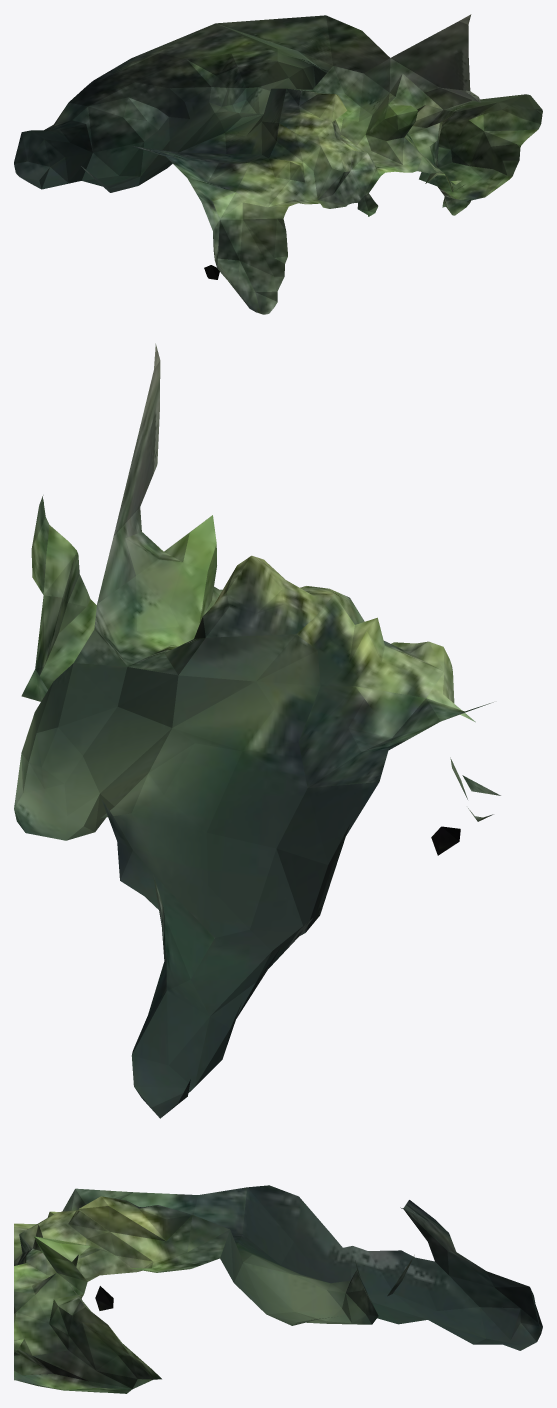
3 views of the same model, one above another, from view 1: azimuth 30°, elevation 25°; view 2: azimuth 150°, elevation 25°; view 3: azimuth 270°, elevation 25° (orthographic). The views are drawn at different scales.
Bounding box in the file's own units: 32.21 × 26.51 × 39.97.
2 materials, 2 textured.
